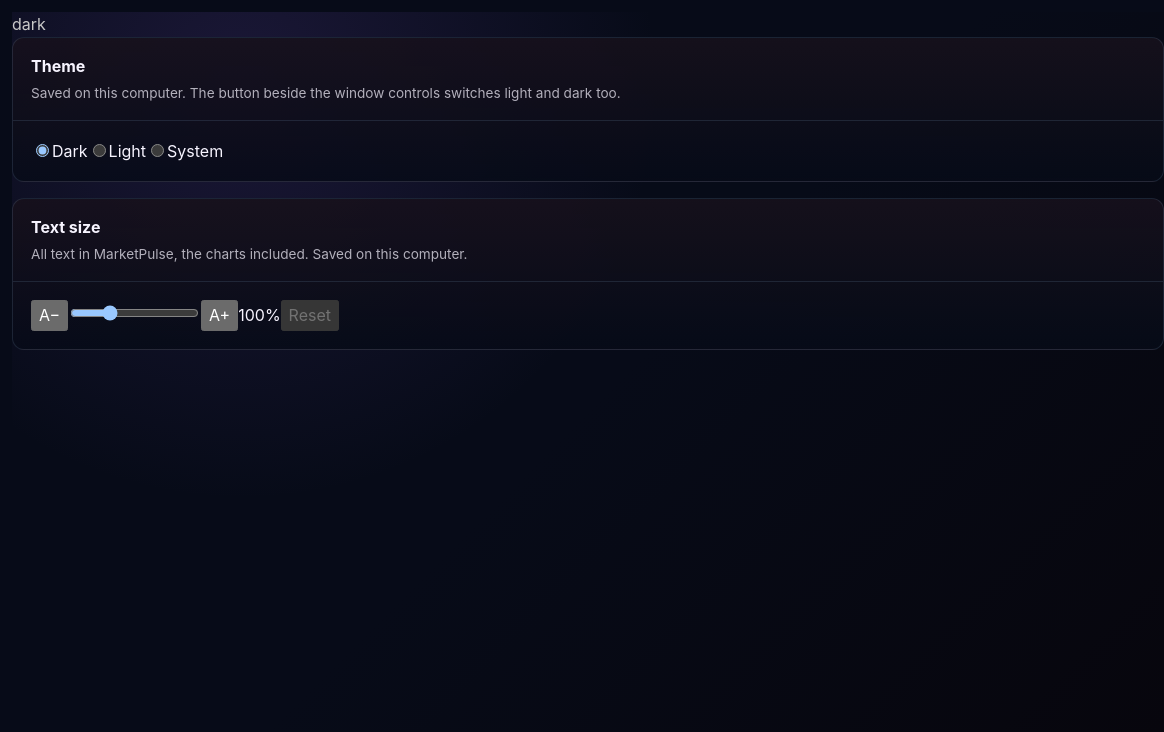
it: text size setting › steps, slides and resets the text size of the desktop window
The width and height of the screenshot is (1164, 732).
Check: the slider named "Text size" holds "100", box [70,305,199,321]
Check: the button "Reset" is disabled, box [281,300,339,331]
Click the button named "Larger text": (220,316) [201,300,238,331]
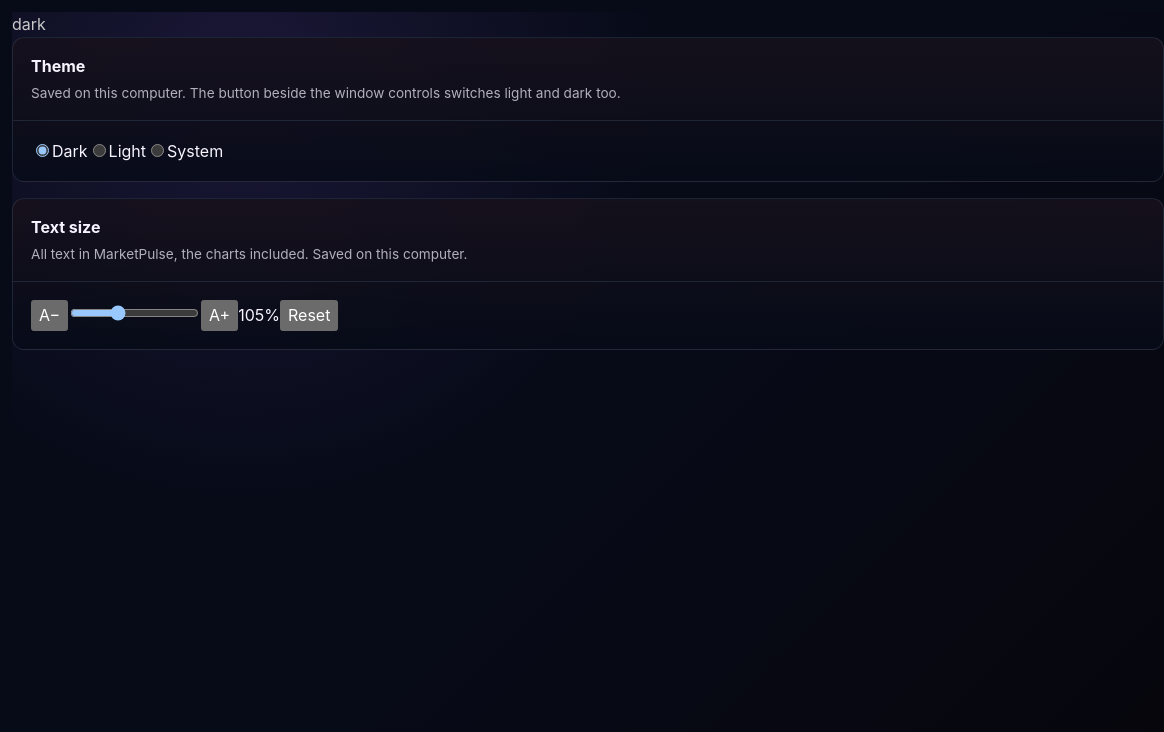
Check: the slider named "Text size" holds "105"
Check: the text "105%" is shown, box [238,305,280,325]
Set the slider named "Text size" to "150": (191,313) [70,305,199,321]
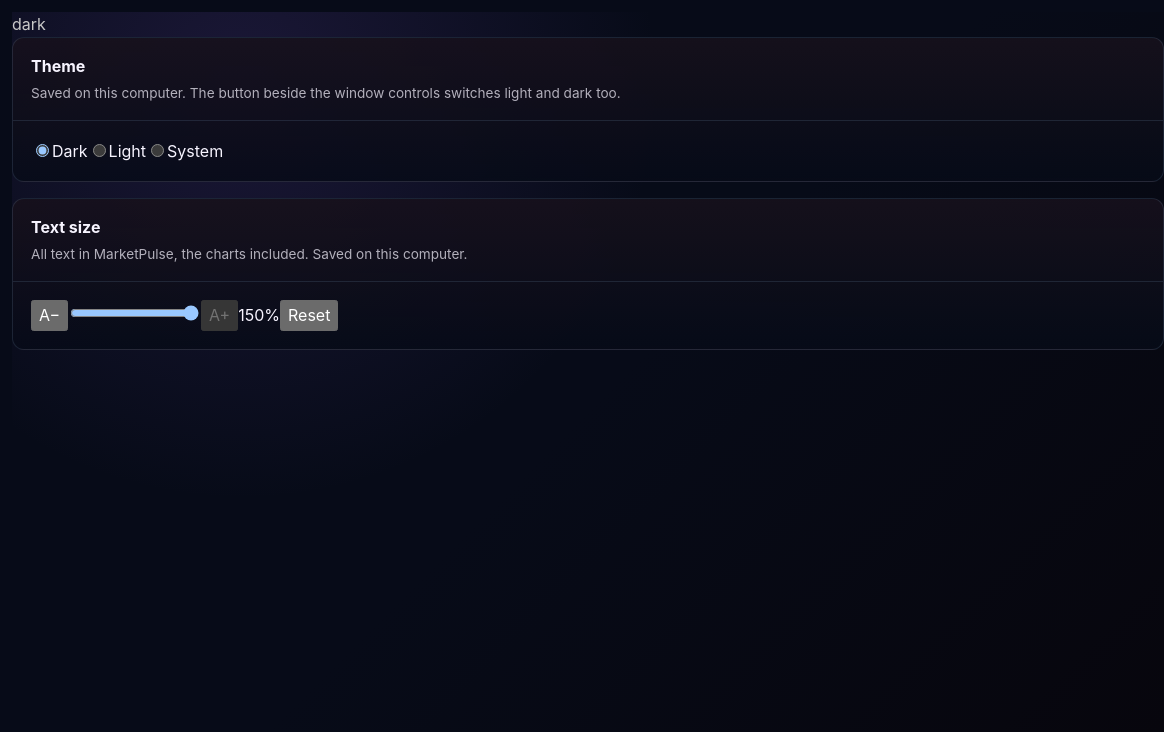
Check: the button named "Larger text" is disabled, box [201,300,238,331]
Click the button "Reset": (309,316) [280,300,338,331]
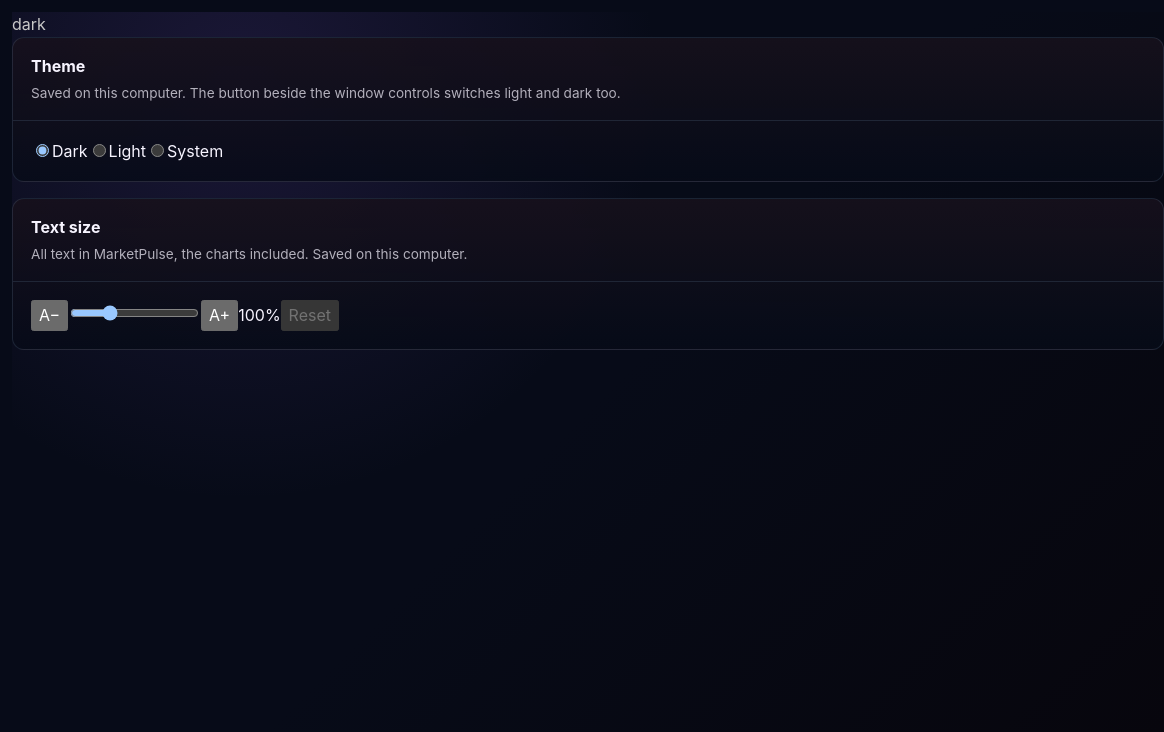
Check: the text "100%" is shown, box [238,305,281,325]
